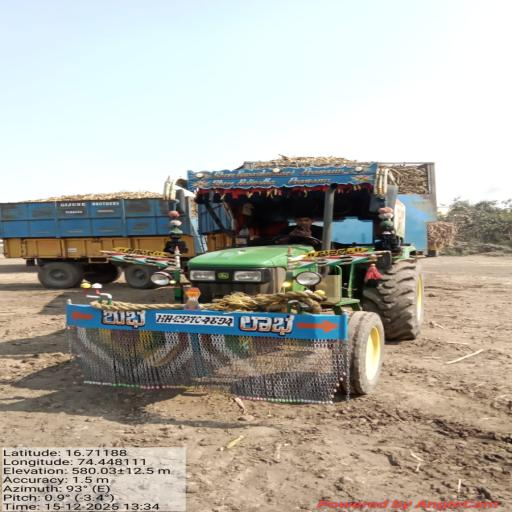number_plate: (152, 314, 244, 330)
